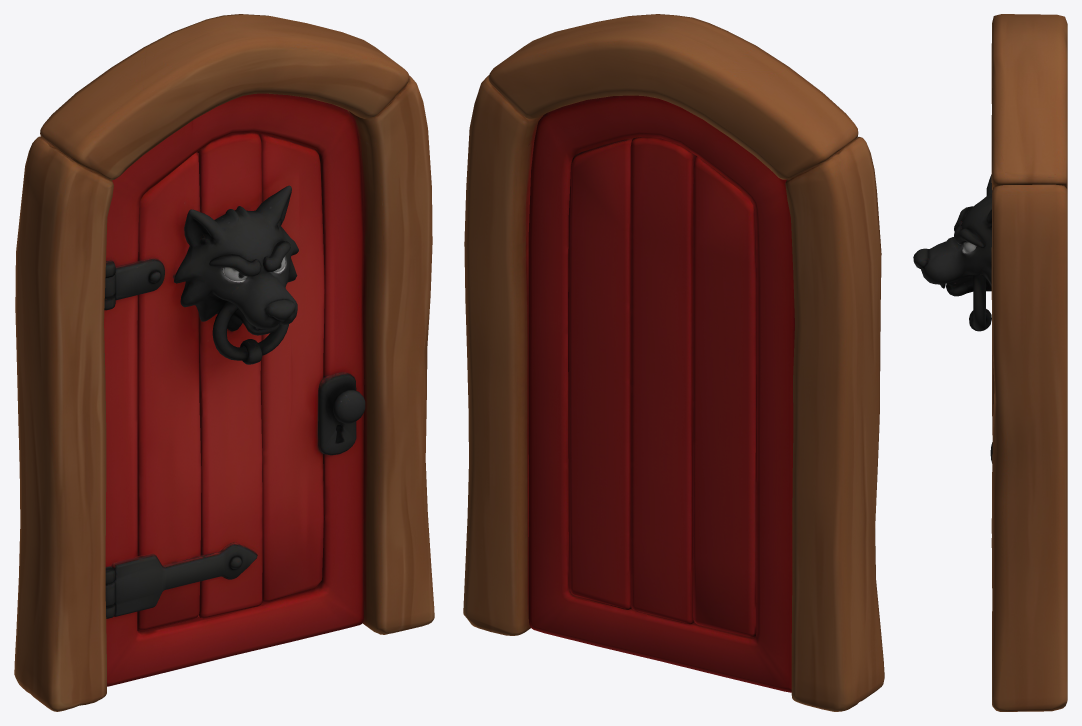
Rendered from wolf_door.glb.
3 renders of one model, left to right at view 1: azimuth 30°, elevation 25°; view 2: azimuth 150°, elevation 25°; view 3: azimuth 270°, elevation 25°, orthographic. The views are drawn at different scales.
Visible parts, largest first — view 1: door_leaf, door_frame, knocker_ring; view 2: door_leaf, door_frame; view 3: door_frame, door_leaf, knocker_ring.
Boxes of the visible parts, x1,y1,x2,y2 form: door_leaf: (104, 93, 365, 686); door_frame: (14, 14, 434, 711); knocker_ring: (212, 301, 288, 360); door_leaf: (528, 95, 794, 692); door_frame: (463, 14, 884, 711); door_frame: (991, 14, 1067, 711); door_leaf: (913, 174, 992, 463); knocker_ring: (973, 275, 985, 330).
Bounding box in the file's own units: 2.06 × 3.2 × 0.7551.
1 material, 1 textured.
